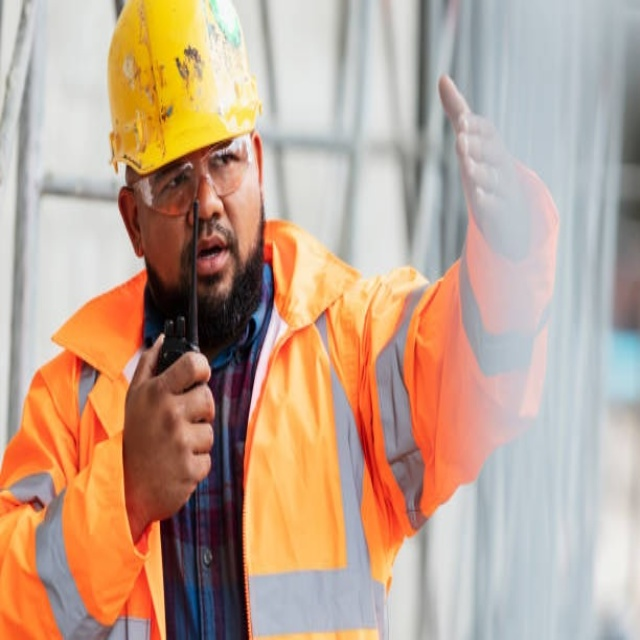Gafas: (129, 132, 256, 218)
Sin_guantes: (438, 66, 551, 282), (121, 330, 217, 524)
Sin_mascara: (178, 220, 242, 318)
